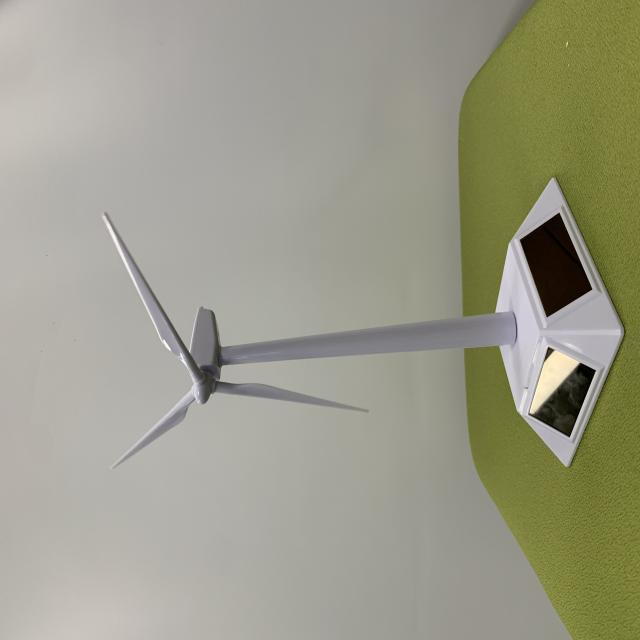solid-blade: (102, 212, 204, 383), (111, 390, 195, 468), (215, 381, 368, 412)
